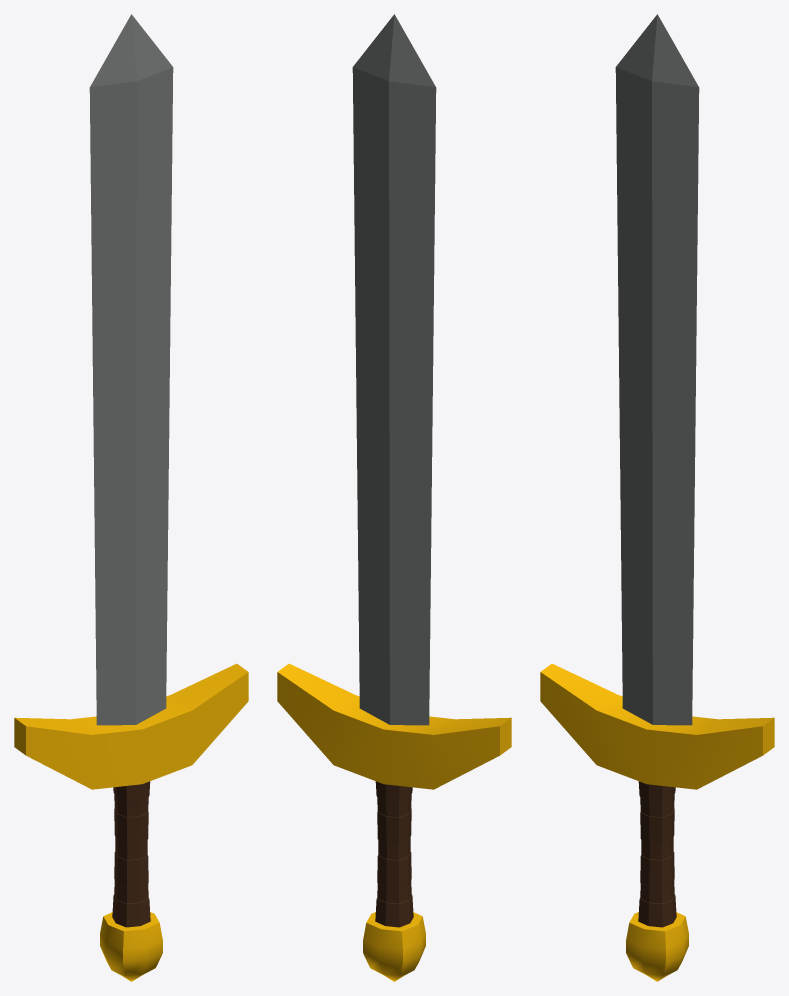
File: low_poly_sword.glb
The picture shows the model from 3 angles, left to right: view 1: azimuth 30°, elevation 25°; view 2: azimuth 150°, elevation 25°; view 3: azimuth 330°, elevation 25°; orthographic projection.
Parts seen in each view (by area): view 1: Cube; view 2: Cube; view 3: Cube.
Boxes of the visible parts, x1,y1,x2,y2 form: Cube: [14, 14, 248, 981]; Cube: [277, 14, 511, 981]; Cube: [540, 14, 774, 981].
Bounding box in the file's own units: 0.7838 × 3.26 × 0.1814.
